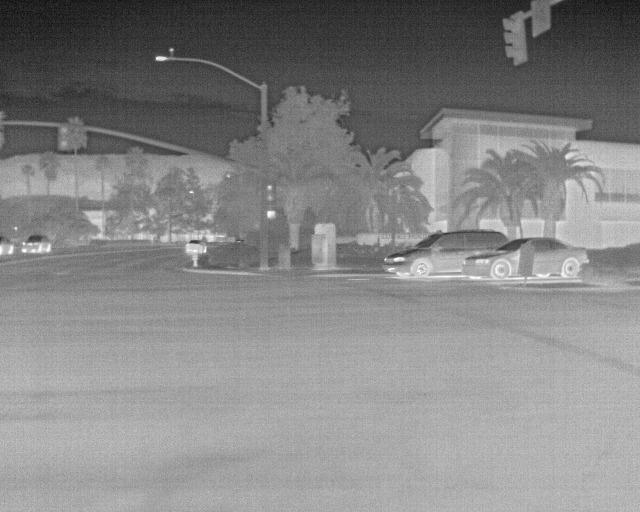car: (379, 228, 510, 279), (460, 235, 524, 284), (534, 235, 590, 283), (19, 230, 52, 257), (184, 237, 210, 253), (0, 235, 18, 258)
